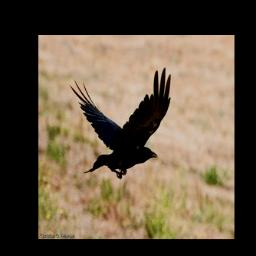Crow: (68, 65, 173, 179)
